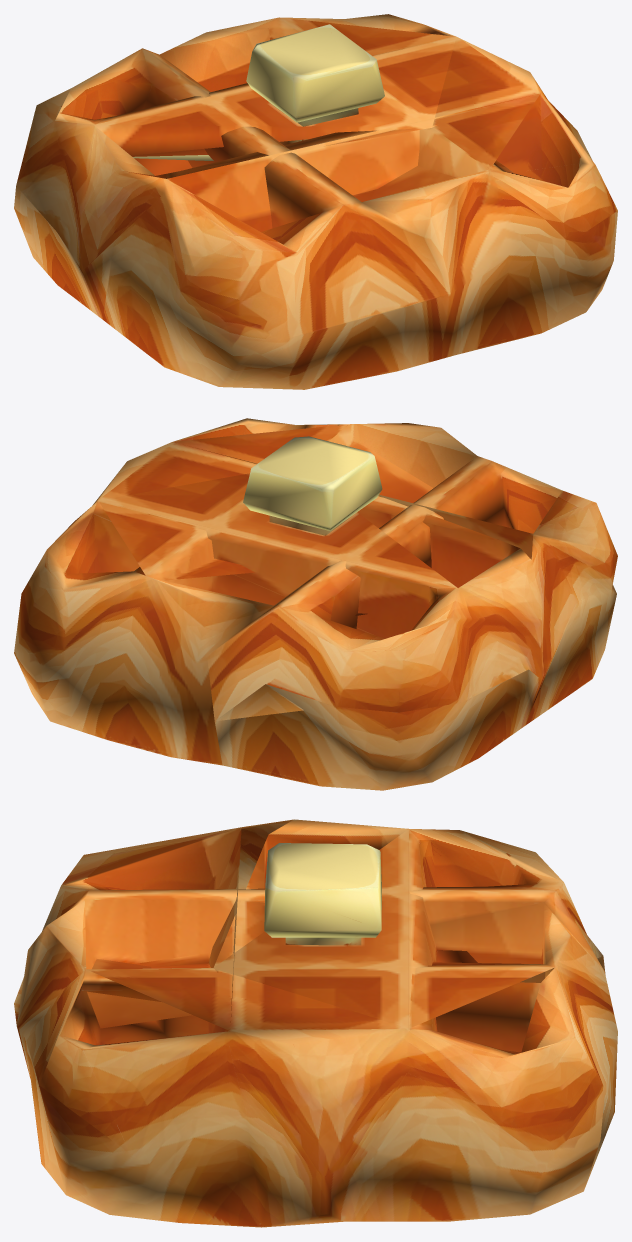
File: source.fbx
3 renders of one model, top to bottom at view 1: azimuth 30°, elevation 25°; view 2: azimuth 150°, elevation 25°; view 3: azimuth 270°, elevation 25°, orthographic. The views are drawn at different scales.
Parts seen in each view (by area): view 1: Mesh_0; view 2: Mesh_0; view 3: Mesh_0.
Part boxes in pixels (<box>): Mesh_0: <box>14,14,617,389</box>; Mesh_0: <box>14,418,617,790</box>; Mesh_0: <box>14,819,617,1227</box>.
Bounding box in the file's own units: 41.11 × 18 × 40.32.
Materials: 1 (1 with a texture image).
